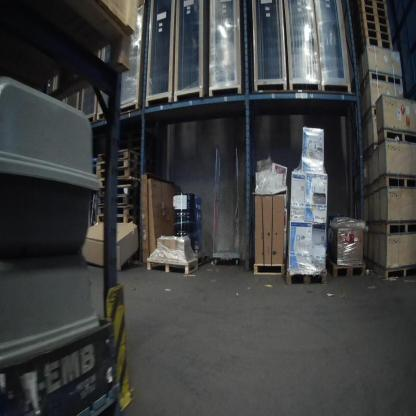pallet: (77, 378, 119, 415), (146, 257, 198, 274), (286, 268, 328, 285), (96, 149, 142, 163), (96, 167, 142, 181), (329, 261, 366, 278), (97, 176, 141, 189), (96, 160, 143, 171), (384, 129, 416, 145), (369, 70, 403, 85), (97, 195, 140, 206), (386, 174, 416, 189), (97, 206, 139, 216), (366, 36, 393, 51), (97, 187, 141, 196), (386, 265, 416, 278), (363, 12, 390, 26), (362, 5, 389, 18), (387, 223, 416, 235), (365, 30, 392, 42), (364, 21, 391, 33), (361, 0, 388, 11), (97, 215, 134, 223)
